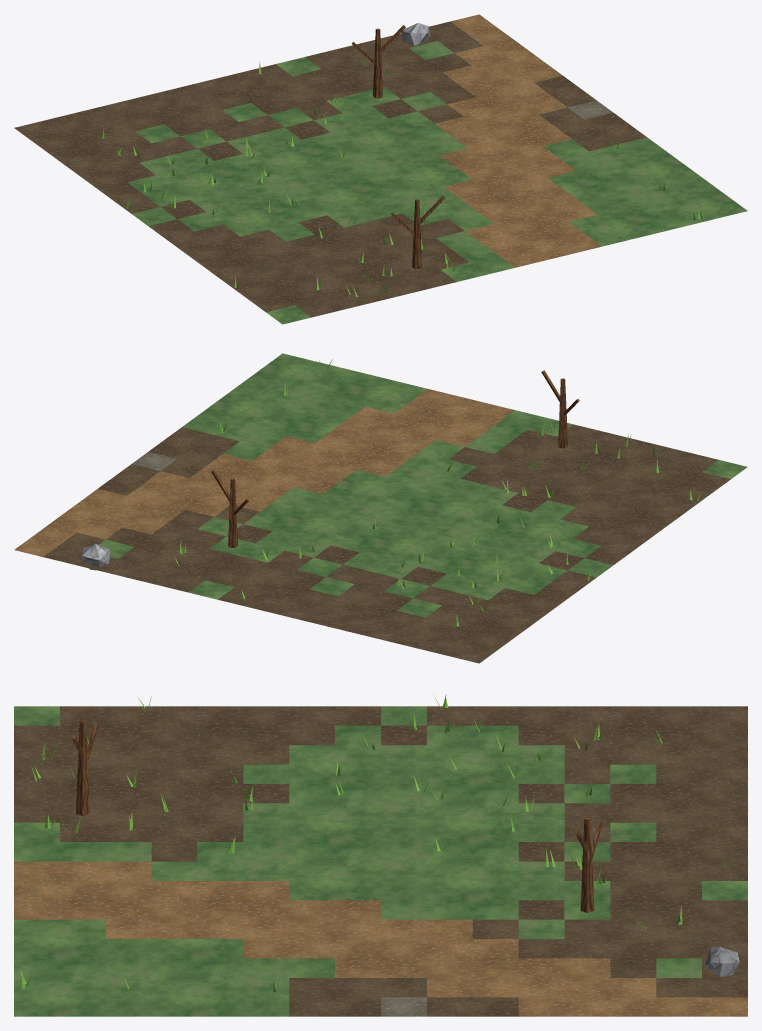
Rendered from chunk_1_18.glb.
3 views of the same model, one above another, from view 1: azimuth 30°, elevation 25°; view 2: azimuth 150°, elevation 25°; view 3: azimuth 270°, elevation 25° (orthographic). The views are drawn at different scales.
Visible parts, largest first — view 1: chunk_1_18; view 2: chunk_1_18; view 3: chunk_1_18.
Boxes of the visible parts, box(x1,y1,x2,y2) form: chunk_1_18: box(14, 14, 747, 324); chunk_1_18: box(14, 353, 747, 663); chunk_1_18: box(14, 694, 747, 1016).
Size of the model in its own units: 16.05 by 2.5 by 16.
Materials: 7 (6 with a texture image).
